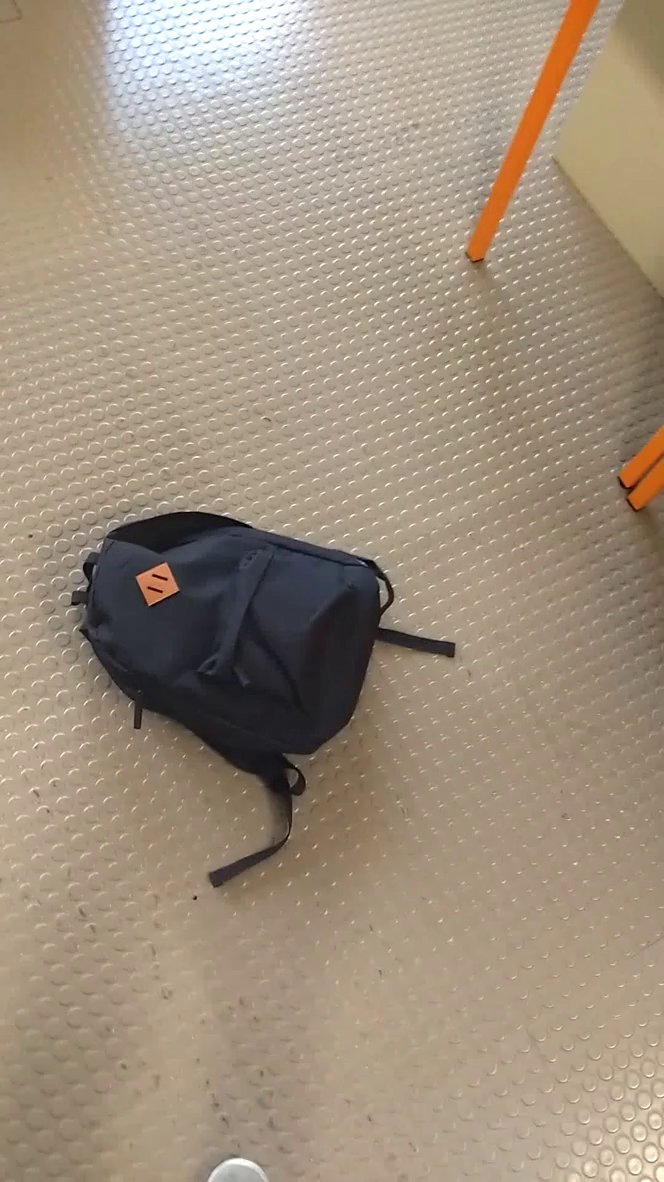bag: (60, 503, 471, 896)
